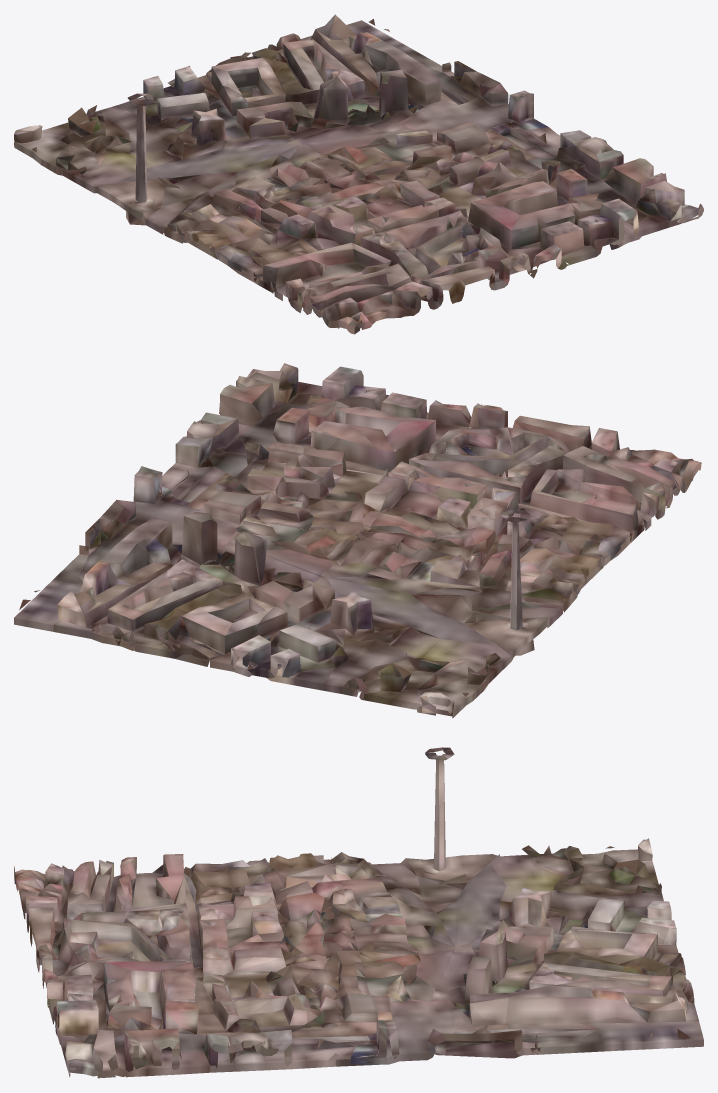
3 renders of one model, top to bottom at view 1: azimuth 30°, elevation 25°; view 2: azimuth 150°, elevation 25°; view 3: azimuth 270°, elevation 25°, orthographic. The views are drawn at different scales.
Parts seen in each view (by area): view 1: Mesh_0; view 2: Mesh_0; view 3: Mesh_0.
Boxes of the visible parts, x1,y1,x2,y2 form: Mesh_0: (14,14,703,334); Mesh_0: (14,363,701,718); Mesh_0: (14,747,703,1078).
Size of the model in its own units: 540 by 144 by 659.
2 materials, 2 textured.
